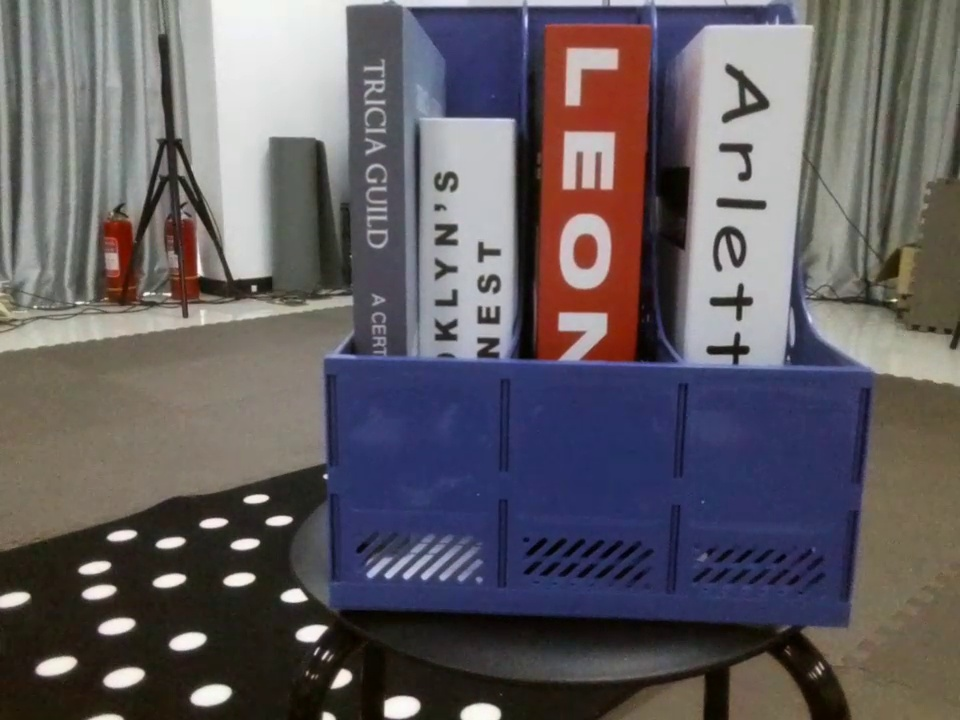files: (308, 1, 877, 632)
